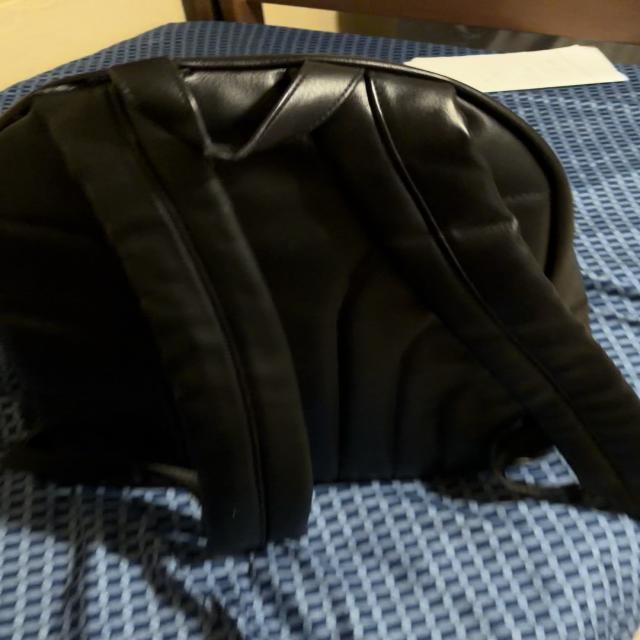backpack: (0, 55, 639, 552)
